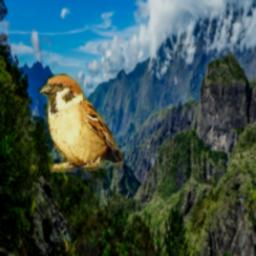Sparrow: (38, 73, 124, 172)
